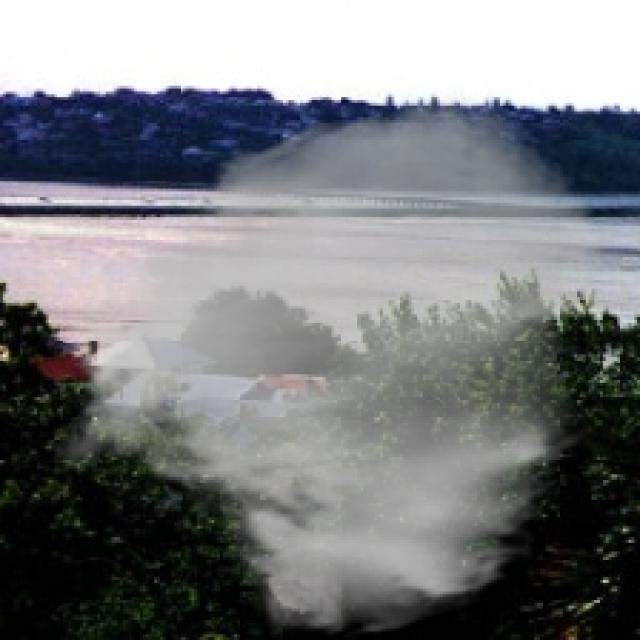smoke: (51, 92, 608, 637)
